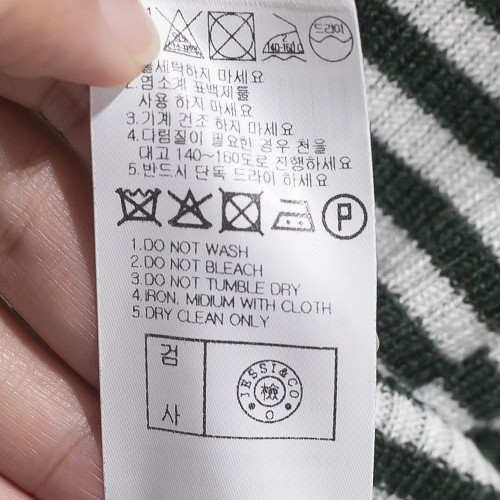ER_dry_clean_chemical: (319, 191, 369, 240)
ER_iron_medium_temp: (270, 195, 316, 236)
ER_no_bleach: (169, 187, 213, 232)
ER_no_tumble_dry: (218, 186, 263, 238)
KR_dry_clean: (307, 15, 358, 65)
KR_iron_medium_temp_with_cloth: (257, 12, 309, 64)
KR_no_bleach: (158, 8, 204, 61)
KR_no_tumble_dry: (206, 8, 258, 66)
KR_no_wash: (113, 184, 161, 227)
